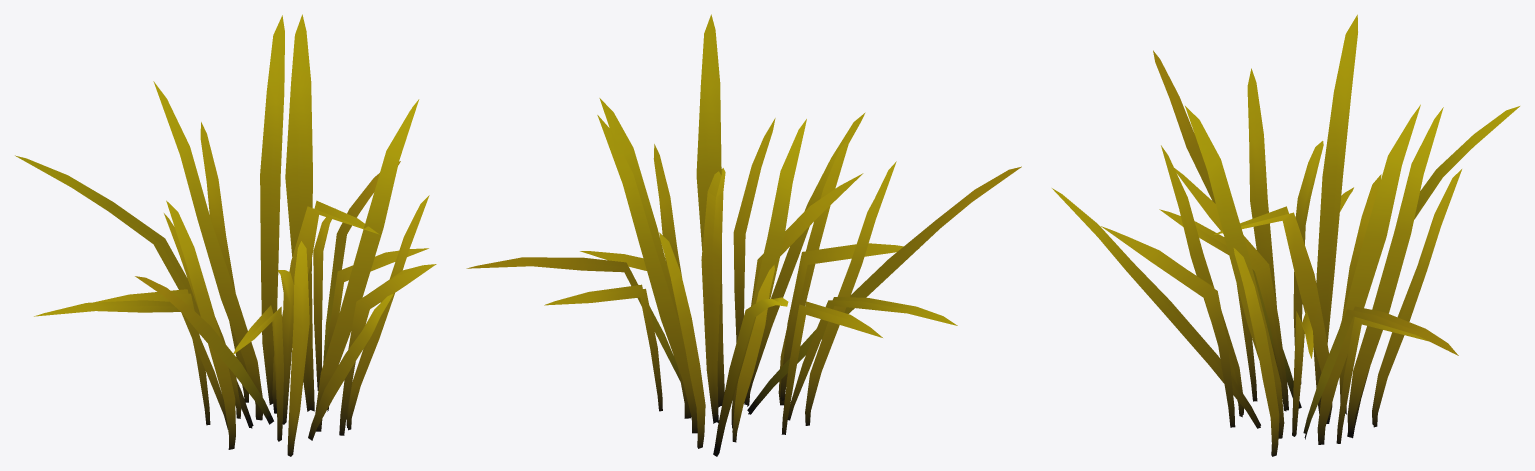
Rendered from Grass_Wispy_Short.glb.
3 renders of one model, left to right at view 1: azimuth 30°, elevation 25°; view 2: azimuth 150°, elevation 25°; view 3: azimuth 270°, elevation 25°, orthographic. The views are drawn at different scales.
Parts seen in each view (by area): view 1: Grass_Wispy_Short; view 2: Grass_Wispy_Short; view 3: Grass_Wispy_Short.
Boxes of the visible parts, box(x1,y1,x2,y2) form: Grass_Wispy_Short: box(15, 14, 436, 456); Grass_Wispy_Short: box(466, 14, 1021, 456); Grass_Wispy_Short: box(1052, 14, 1519, 456).
Bounding box in the file's own units: 1.32 × 1.07 × 1.21.
1 material, 1 textured.
